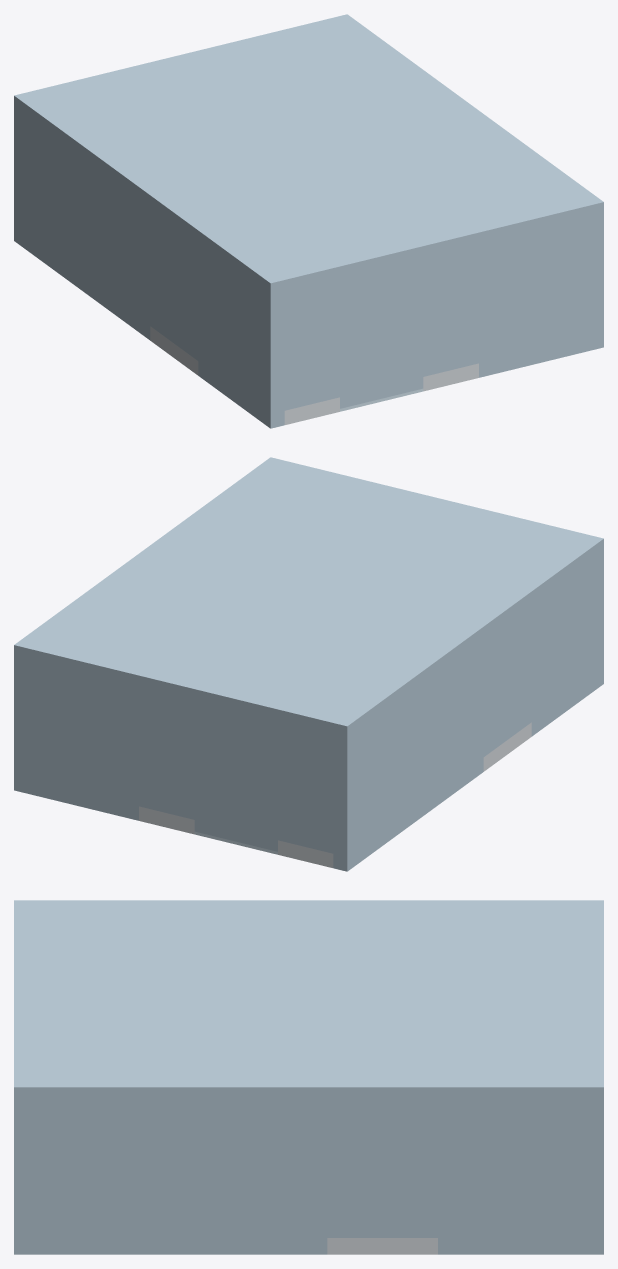
File: frozen-cavern-mirror.glb
3 renders of one model, top to bottom at view 1: azimuth 30°, elevation 25°; view 2: azimuth 150°, elevation 25°; view 3: azimuth 270°, elevation 25°, orthographic. The views are drawn at different scales.
Visible parts, largest first — view 1: ice-rock_20, plug_frozen_south, ice-rock_1, ice-rock_10, plug_ice_west, ice-rock_11, ice-rock_9, ice-rock_8, ice-rock_12, ice-rock_14, ice-rock_7, ice-rock_19 (+3 smaller); view 2: ice-rock_20, plug_frozen_north, ice-rock_1, ice-rock_2, ice-rock_10, plug_ice_west, ice-rock_13, ice-rock_19, plug_frozen_north.001, snow_2, snow_1, snow_10; view 3: ice-rock_20, ice-rock_7, plug_ice_east, ice-rock_3, ice-rock_4, ice-rock_5, ice-rock_6, ice-rock_18, ice-rock_2, snow_9.
Part boxes in pixels (x1,y1,x2,y2): ice-rock_20: [14, 14, 603, 297]; plug_frozen_south: [284, 261, 478, 410]; ice-rock_1: [14, 110, 150, 340]; ice-rock_10: [198, 245, 284, 428]; plug_ice_west: [150, 239, 198, 360]; ice-rock_11: [506, 233, 534, 370]; ice-rock_9: [534, 227, 562, 363]; ice-rock_8: [562, 220, 589, 357]; ice-rock_12: [479, 240, 506, 377]; ice-rock_14: [284, 247, 478, 308]; ice-rock_7: [590, 216, 603, 350]; ice-rock_19: [150, 210, 198, 273]; ice-rock_20: [14, 457, 603, 740]; plug_frozen_north: [139, 704, 333, 853]; ice-rock_1: [333, 641, 483, 871]; ice-rock_2: [14, 659, 138, 820]; ice-rock_10: [531, 553, 603, 736]; plug_ice_west: [483, 635, 531, 756]; ice-rock_13: [139, 690, 333, 751]; ice-rock_19: [483, 606, 531, 669]; plug_frozen_north.001: [194, 820, 277, 851]; snow_2: [139, 806, 194, 834]; snow_1: [278, 840, 333, 867]; snow_10: [483, 722, 531, 771]; ice-rock_20: [14, 900, 603, 1103]; ice-rock_7: [14, 1104, 327, 1254]; plug_ice_east: [327, 1137, 437, 1237]; ice-rock_3: [548, 1104, 585, 1254]; ice-rock_4: [511, 1104, 548, 1254]; ice-rock_5: [475, 1104, 511, 1254]; ice-rock_6: [438, 1104, 474, 1254]; ice-rock_18: [327, 1104, 437, 1137]; ice-rock_2: [585, 1104, 603, 1254]; snow_9: [327, 1238, 437, 1254].
Bounding box in the file's own units: 12 × 5 × 16.
